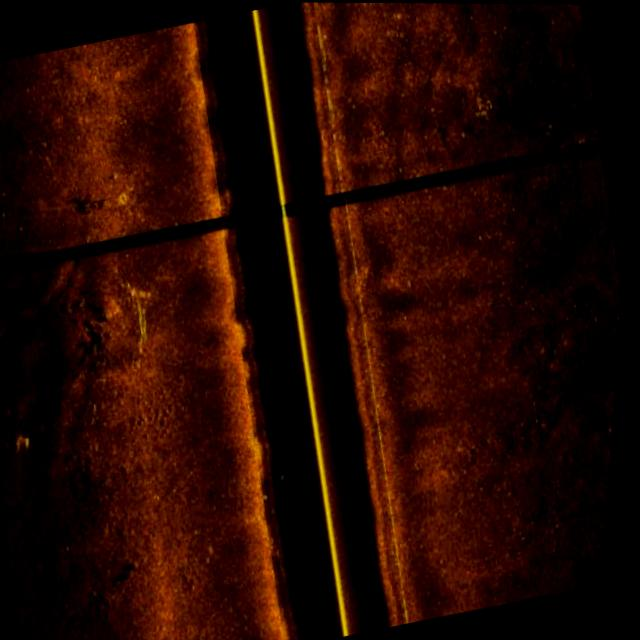mine: (15, 426, 40, 453)
